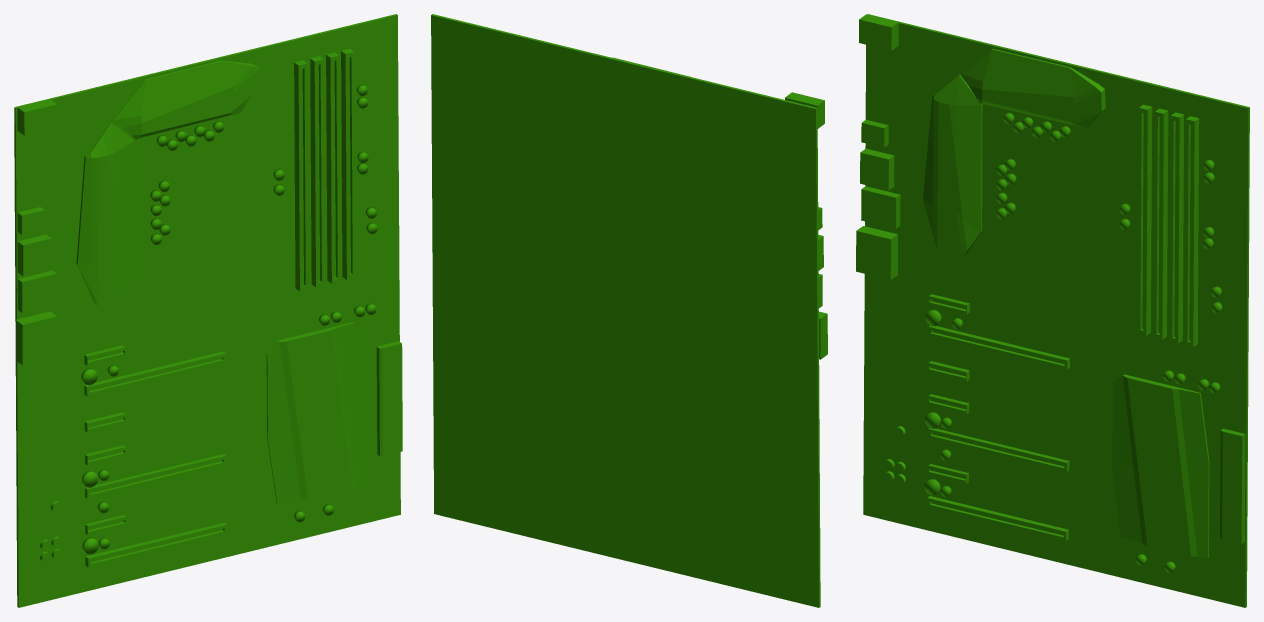
File: motherboard.glb
3 renders of one model, left to right at view 1: azimuth 30°, elevation 25°; view 2: azimuth 150°, elevation 25°; view 3: azimuth 330°, elevation 25°, orthographic.
Visible parts, largest first — view 1: motherboard; view 2: motherboard; view 3: motherboard.
Part boxes in pixels (<box>): motherboard: <box>14,14,402,607</box>; motherboard: <box>431,14,827,607</box>; motherboard: <box>856,14,1249,607</box>.
Bounding box in the file's own units: 2.05 × 2.55 × 0.0948.
